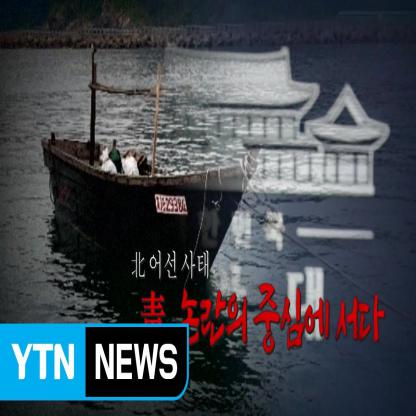fish-b: (36, 45, 258, 272)
